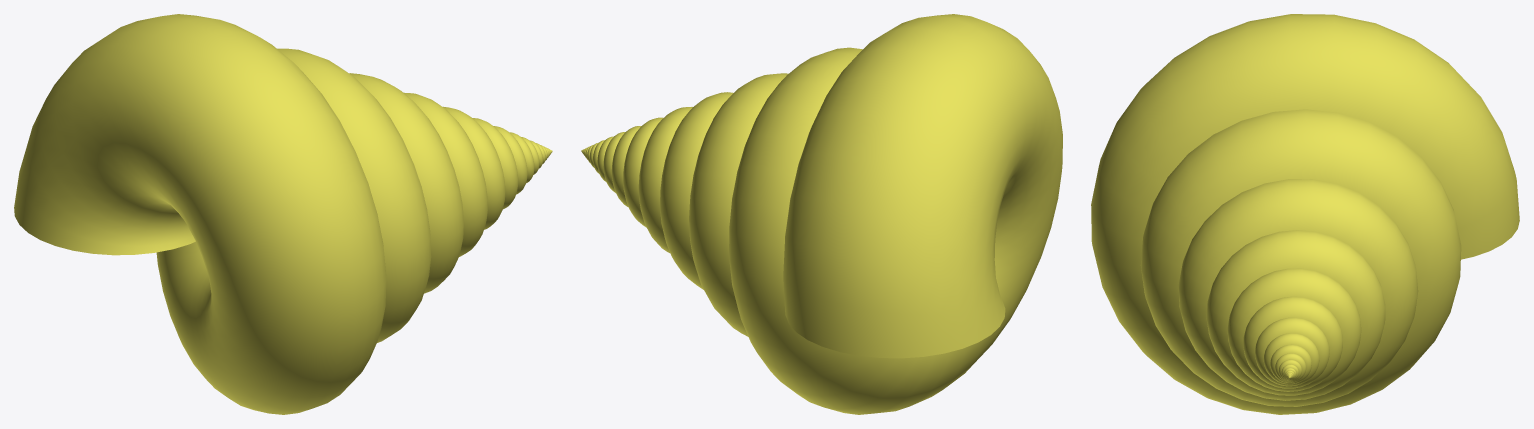
The picture shows the model from 3 angles, left to right: view 1: azimuth 30°, elevation 25°; view 2: azimuth 150°, elevation 25°; view 3: azimuth 270°, elevation 25°; orthographic projection. The views are drawn at different scales.
Parts seen in each view (by area): view 1: t26; view 2: t26; view 3: t26.
Part boxes in pixels (x1=…): t26: x1=14, y1=14, x2=552, y2=414; t26: x1=581, y1=14, x2=1062, y2=414; t26: x1=1091, y1=14, x2=1519, y2=414.
Bounding box in the file's own units: 500 × 387 × 415.
